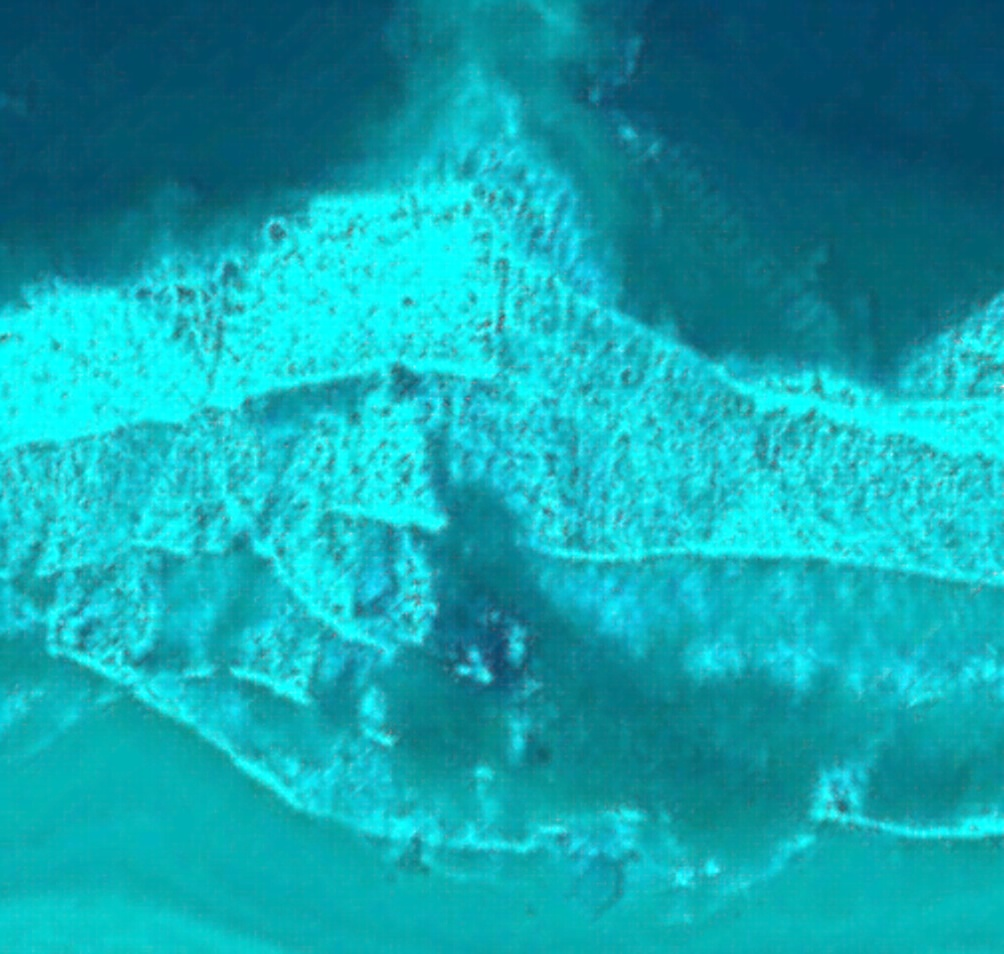rip_current: (357, 48, 700, 829)
